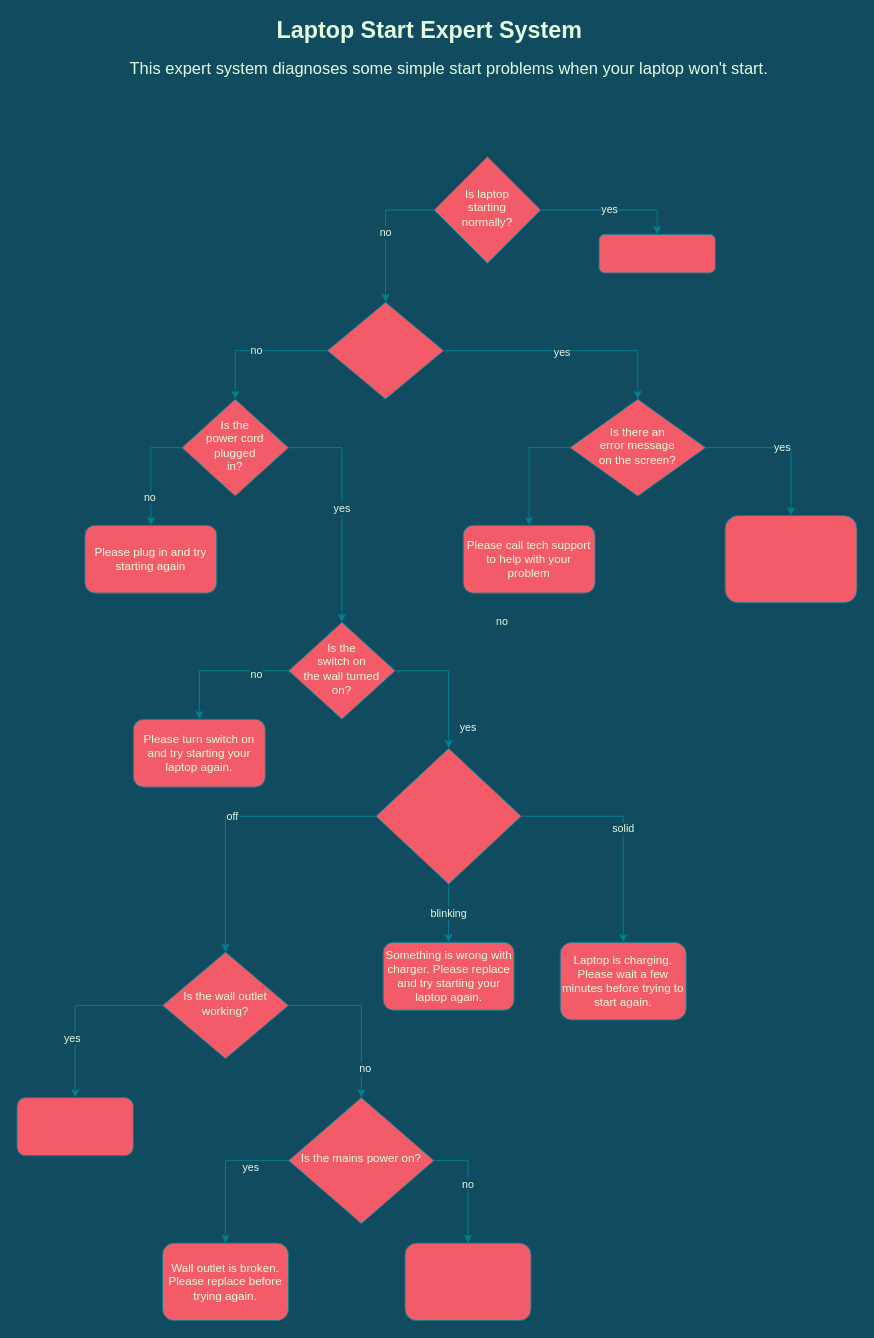
This 874x1338 diagram has some shape labels left out. The shapes that lost their labels are listed below. From the top down, each one's box as (x1, y1, x2, y2) in pixels, then its label:
(598, 233, 715, 273): No repair needed.
(326, 301, 444, 399): Is there anything on the screen?
(724, 515, 857, 603): Please google the specified error message to receive further aid.
(375, 747, 521, 884): What is the LED on the charger doing?
(16, 1097, 133, 1156): Charger is broken. Please replace before try again.
(404, 1242, 531, 1321): Something is wrong with mains power source. Please call an electrician.
